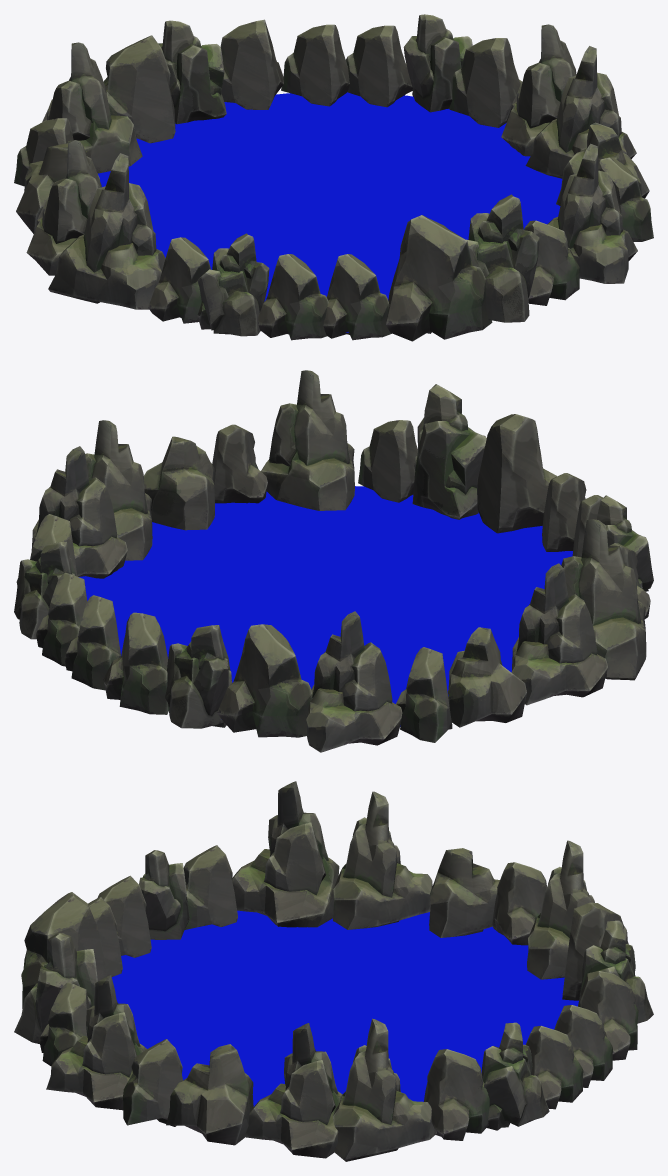
The model's file is fountain.glb.
3 renders of one model, top to bottom at view 1: azimuth 30°, elevation 25°; view 2: azimuth 150°, elevation 25°; view 3: azimuth 270°, elevation 25°, orthographic. The views are drawn at different scales.
Parts seen in each view (by area): view 1: Circle, water; view 2: Circle, water; view 3: Circle, water.
Part boxes in pixels (x1,y1,x2,y2): Circle: (14,14,653,341); water: (98,92,562,332); Circle: (14,370,653,752); water: (79,486,572,726); Circle: (14,781,653,1161); water: (112,910,578,1106).
Size of the model in its own units: 8.22 by 1.93 by 8.04.
Materials: 2 (1 with a texture image).
